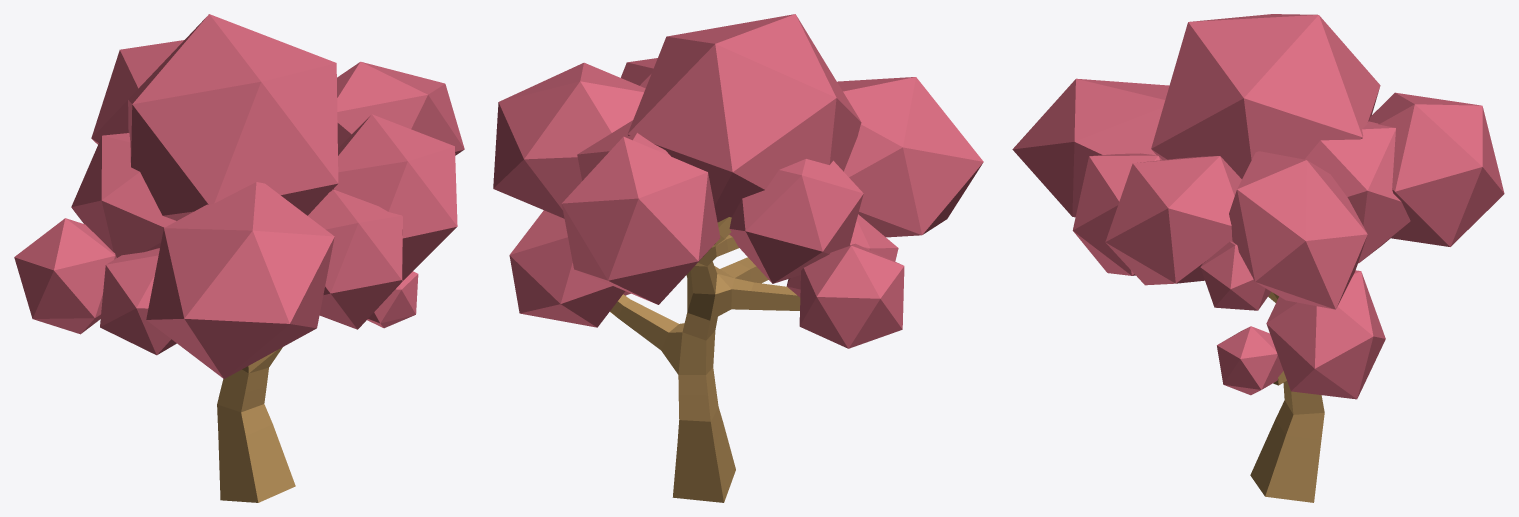
File: tree_cherry_011_1.fbx
The picture shows the model from 3 angles, left to right: view 1: azimuth 30°, elevation 25°; view 2: azimuth 150°, elevation 25°; view 3: azimuth 270°, elevation 25°; orthographic projection. The views are drawn at different scales.
Parts seen in each view (by area): view 1: Icosphere.004, Icosphere.011, Icosphere.010, Icosphere.012, Cube, Icosphere.005, Icosphere.008, Icosphere.013, Icosphere.006, Icosphere.009, Icosphere.001; view 2: Icosphere.004, Icosphere.009, Cube, Icosphere.011, Icosphere.013, Icosphere.008, Icosphere.005, Icosphere.002, Icosphere.007, Icosphere.006, Icosphere.010; view 3: Icosphere.004, Icosphere.013, Icosphere.009, Icosphere.010, Icosphere.011, Icosphere.002, Icosphere.007, Cube, Icosphere.012, Icosphere.001, Icosphere.
Part boxes in pixels (box(x1,y1,x2,y2)): Icosphere.004: box(128, 14, 338, 220); Icosphere.011: box(146, 182, 334, 378); Icosphere.010: box(333, 114, 457, 280); Icosphere.012: box(308, 189, 402, 329); Cube: box(217, 347, 295, 502); Icosphere.005: box(14, 218, 116, 334); Icosphere.008: box(71, 133, 175, 257); Icosphere.013: box(337, 61, 464, 155); Icosphere.006: box(100, 248, 176, 355); Icosphere.009: box(91, 40, 183, 144); Icosphere.001: box(367, 271, 418, 328); Icosphere.004: box(627, 14, 861, 222); Icosphere.009: box(561, 136, 720, 304); Cube: box(610, 217, 800, 502); Icosphere.011: box(837, 77, 983, 237); Icosphere.013: box(493, 62, 645, 218); Icosphere.008: box(729, 159, 863, 283); Icosphere.005: box(799, 243, 904, 348); Icosphere.002: box(509, 210, 625, 327); Icosphere.007: box(577, 120, 670, 180); Icosphere.006: box(786, 214, 898, 297); Icosphere.010: box(621, 58, 657, 88); Icosphere.004: box(1151, 14, 1380, 178); Icosphere.013: box(1229, 151, 1367, 309); Icosphere.009: box(1369, 92, 1504, 246); Icosphere.010: box(1105, 156, 1241, 285); Icosphere.011: box(1012, 78, 1169, 217); Icosphere.002: box(1266, 270, 1385, 399); Icosphere.007: box(1305, 121, 1410, 263); Cube: box(1250, 292, 1324, 502); Icosphere.012: box(1072, 153, 1161, 275); Icosphere.001: box(1217, 326, 1283, 395); Icosphere: box(1200, 241, 1270, 310).
Bounding box in the file's own units: 413 × 457 × 437.
